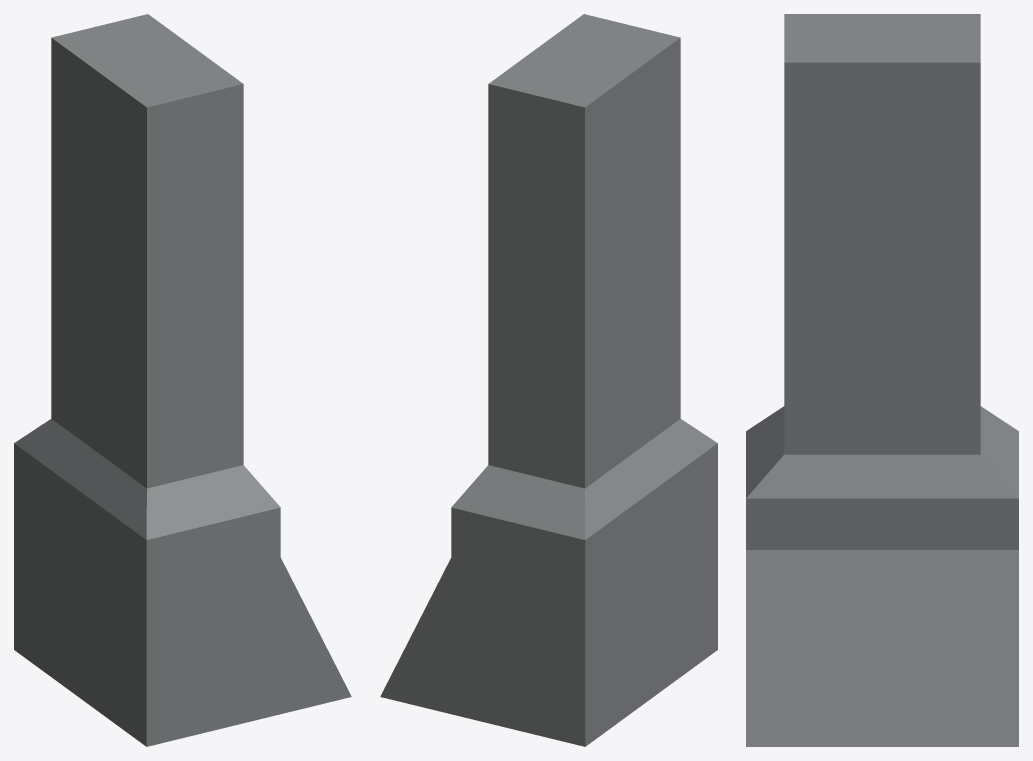
File: OvenVentV1.fbx
The picture shows the model from 3 angles, left to right: view 1: azimuth 30°, elevation 25°; view 2: azimuth 150°, elevation 25°; view 3: azimuth 270°, elevation 25°; orthographic projection. The views are drawn at different scales.
Parts seen in each view (by area): view 1: Vent; view 2: Vent; view 3: Vent.
Part boxes in pixels (x1,y1,x2,y2): Vent: (14,14,351,746); Vent: (380,14,717,746); Vent: (746,14,1018,746).
Size of the model in its own units: 1026 by 917 by 2653.
